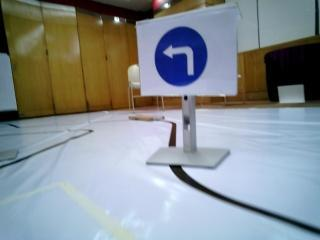left: (147, 26, 234, 91)
